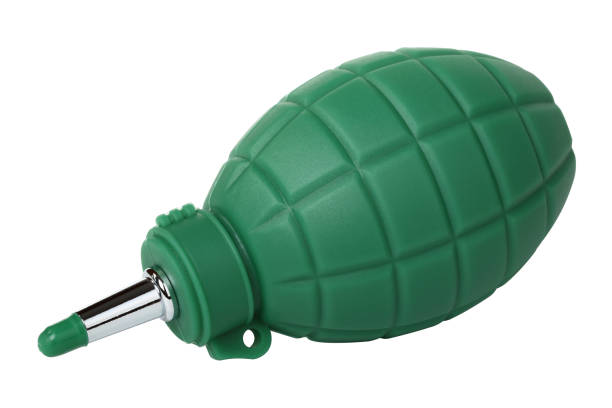e1: (44, 46, 574, 361)
